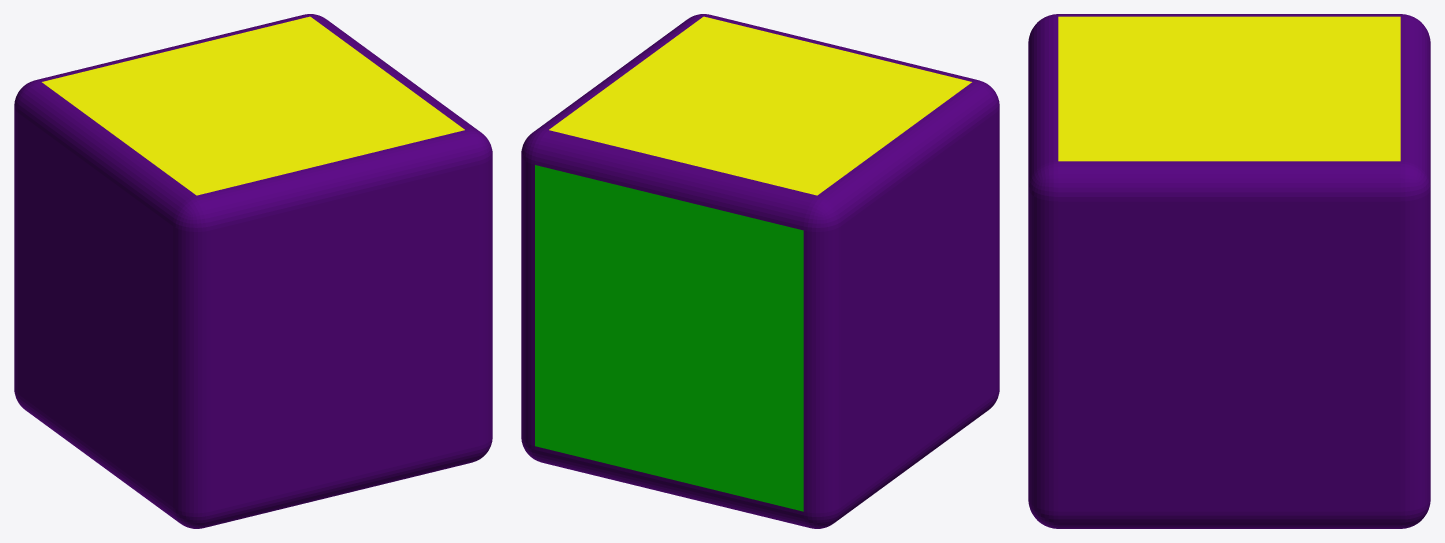
3 renders of one model, left to right at view 1: azimuth 30°, elevation 25°; view 2: azimuth 150°, elevation 25°; view 3: azimuth 270°, elevation 25°, orthographic. The views are drawn at different scales.
Visible parts, largest first — view 1: Cube.018; view 2: Cube.018; view 3: Cube.018.
Boxes of the visible parts, x1,y1,x2,y2 form: Cube.018: [14, 14, 492, 528]; Cube.018: [521, 14, 999, 528]; Cube.018: [1028, 14, 1430, 528].
Size of the model in its own units: 200 by 200 by 200.
